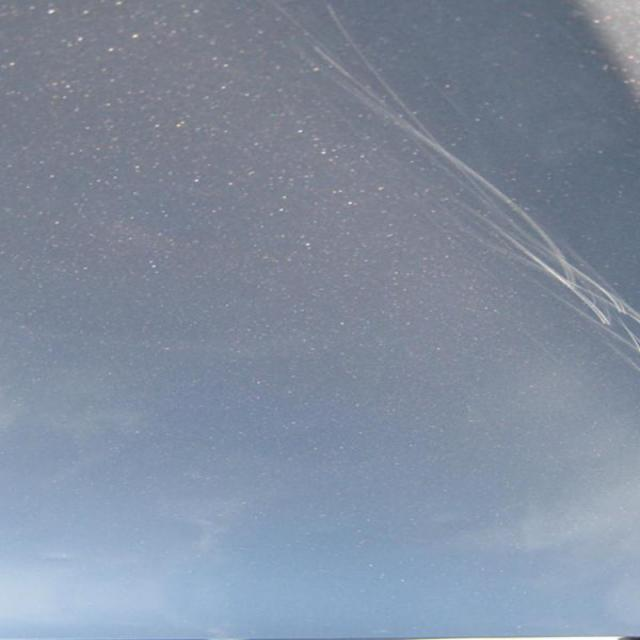scratch: (299, 29, 640, 362)
